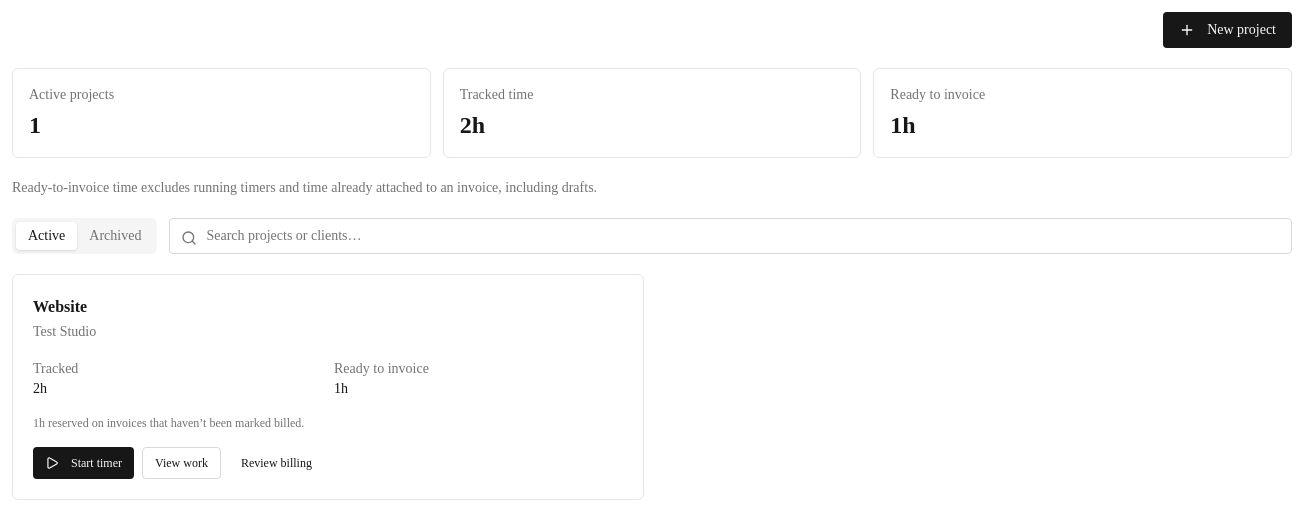
Projects hub › searches client names as well as project names
Type "studio" into the field labelled "Search projects or clients" at [731, 236], box [169, 218, 1292, 254]
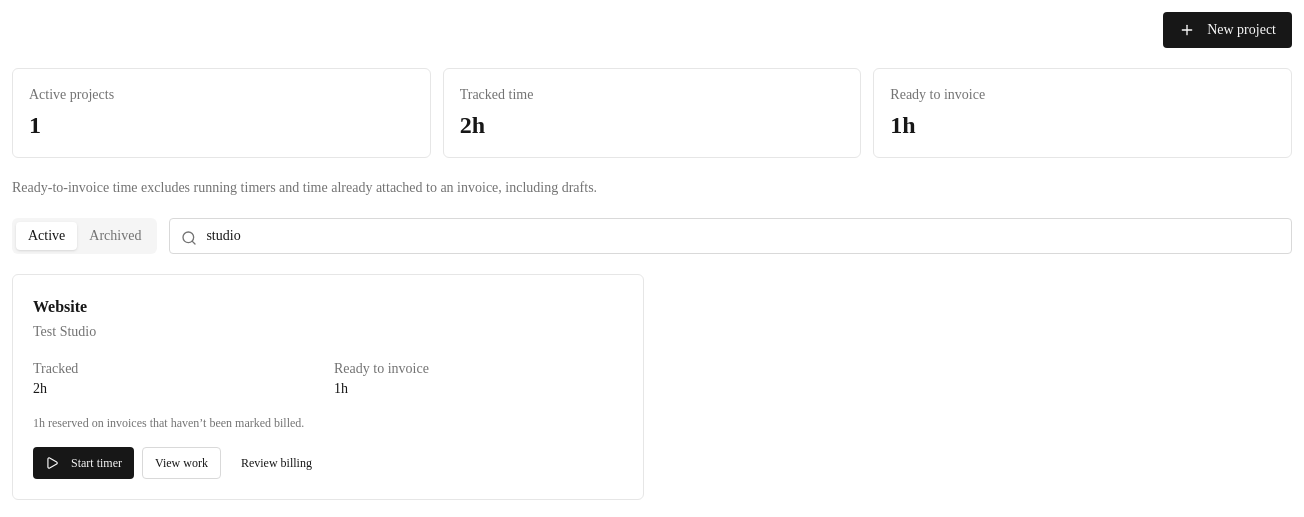
Check: the heading "Website" is shown, box [33, 295, 96, 319]
Replace the text in the field named "Search projects or clients" with "missing" at [731, 236], box [169, 218, 1292, 254]
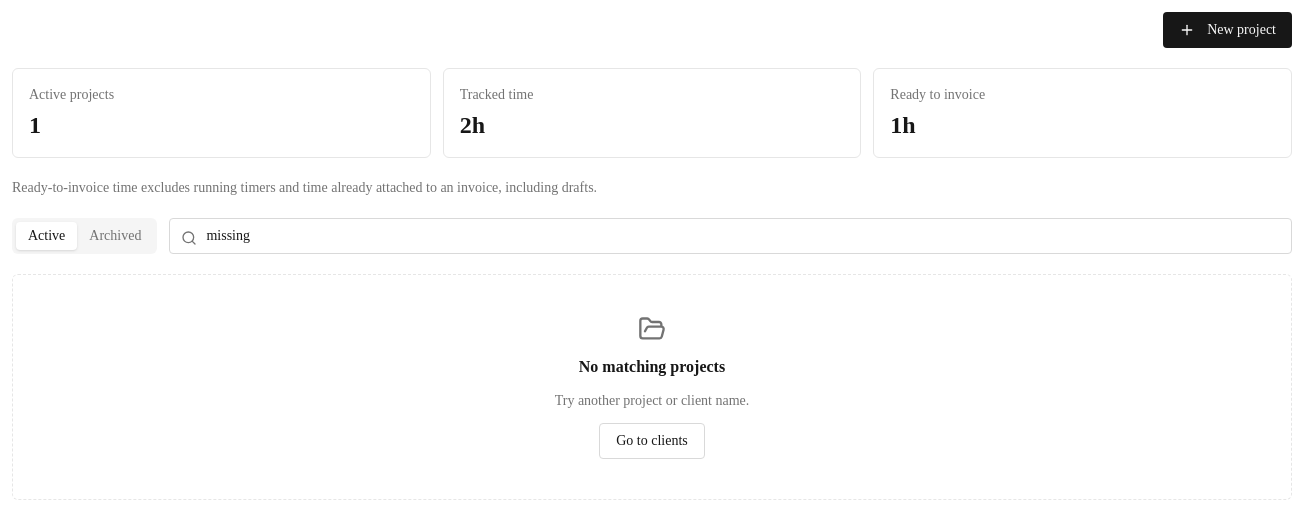
Check: the heading "No matching projects" is shown, box [579, 358, 725, 375]
